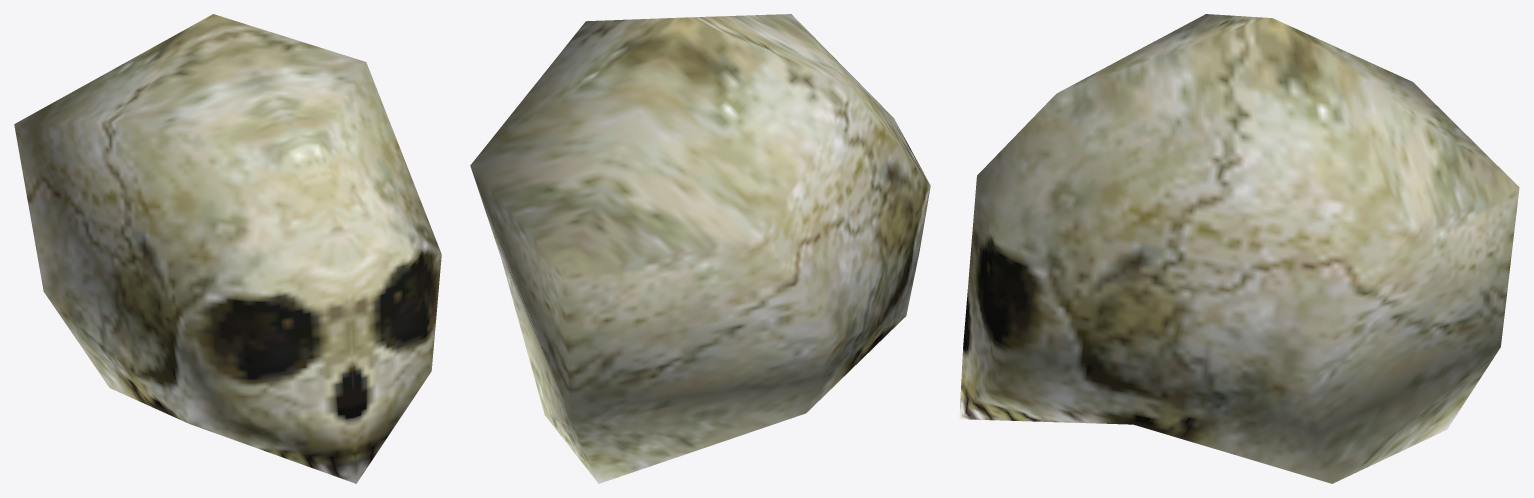
The model's file is poi_all_skeleton_human_head_l2.fbx.
The picture shows the model from 3 angles, left to right: view 1: azimuth 30°, elevation 25°; view 2: azimuth 150°, elevation 25°; view 3: azimuth 270°, elevation 25°; orthographic projection. The views are drawn at different scales.
Visible parts, largest first — view 1: mesh_node; view 2: mesh_node; view 3: mesh_node.
Boxes of the visible parts, x1,y1,x2,y2 form: mesh_node: (14,14,441,483); mesh_node: (470,14,930,483); mesh_node: (959,14,1519,483).
Size of the model in its own units: 0.1661 by 0.1932 by 0.2384.
